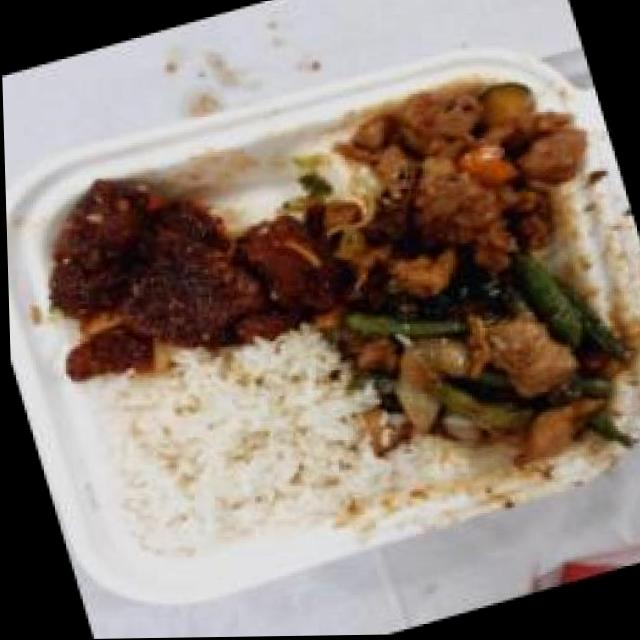Beijing Beef: (8, 131, 339, 403)
Kung Pao Chicken: (289, 43, 629, 332)
String Bean Chicken Breast: (348, 251, 640, 489)
White Steamed Rice: (88, 321, 396, 577)
